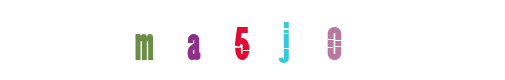0: (245, 0, 325, 80)
5: (213, 0, 293, 80)
A: (201, 0, 281, 80)
J: (223, 0, 303, 80)
M: (104, 0, 184, 80)
